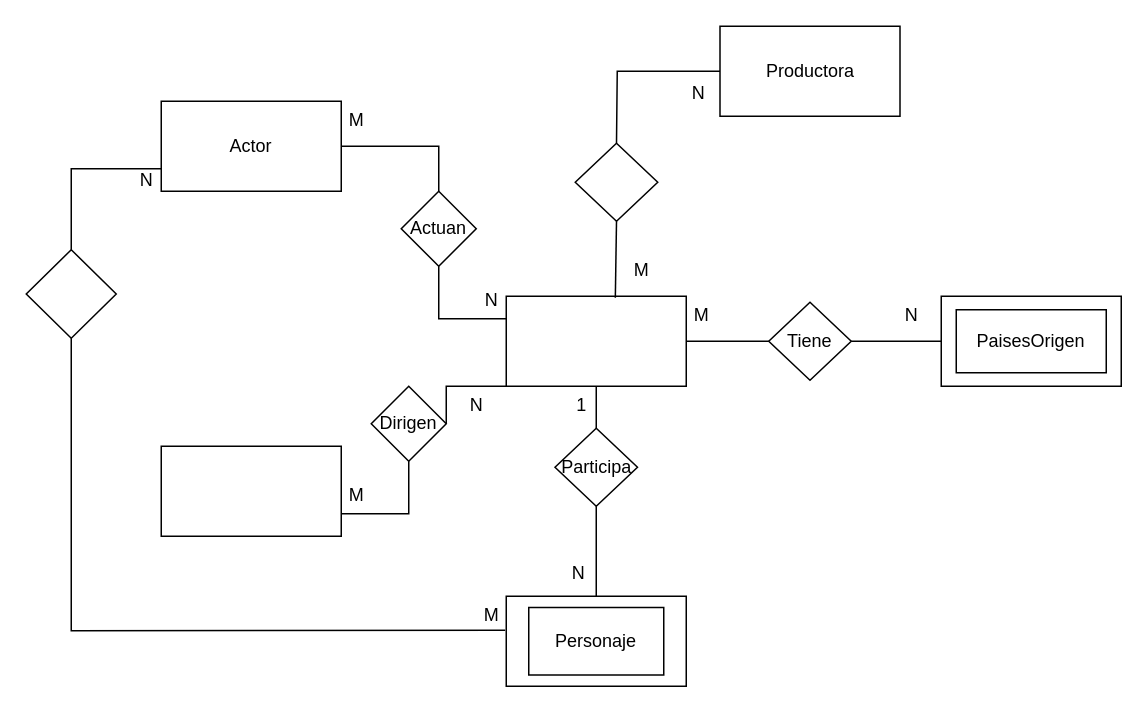
Image size: 1148x713. Some labels were removed from this diagram. The box of each missing label's shape, as (x1, y1, x2, y2) in pixels:
Director: (160, 445, 341, 536)
Interpreta: (25, 248, 116, 338)
Pelicula: (505, 295, 686, 386)
Produce: (574, 142, 658, 221)
